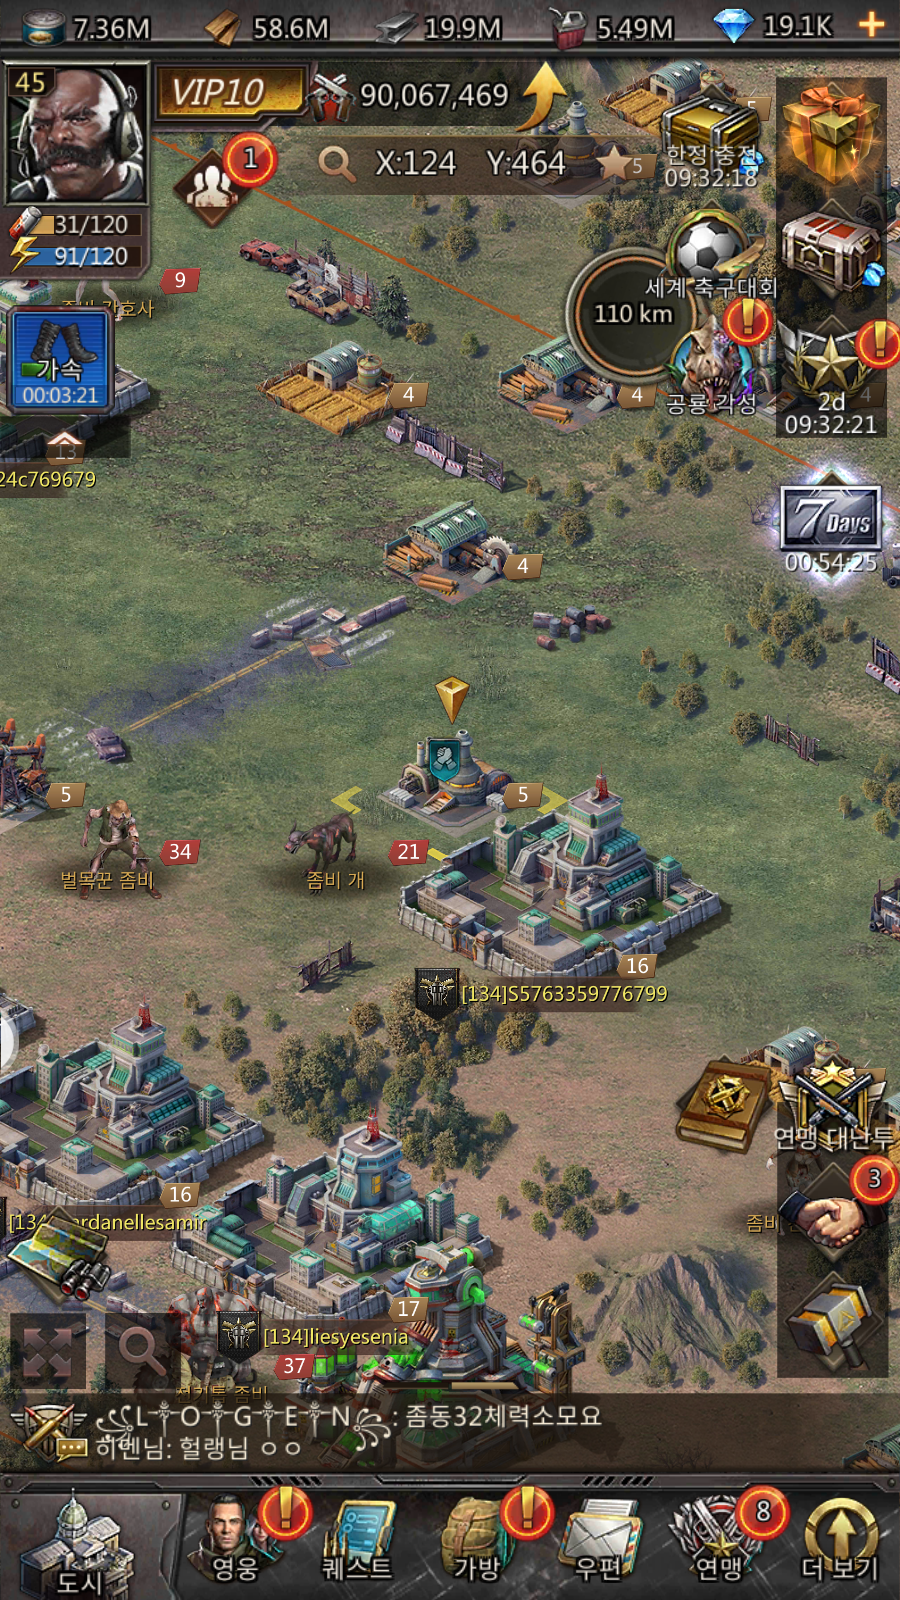city: (15, 1493, 168, 1600)
occupied_steel: (310, 657, 579, 896)
open_panel: (93, 1298, 191, 1400)
troops_cnt_1: (152, 120, 286, 247)
